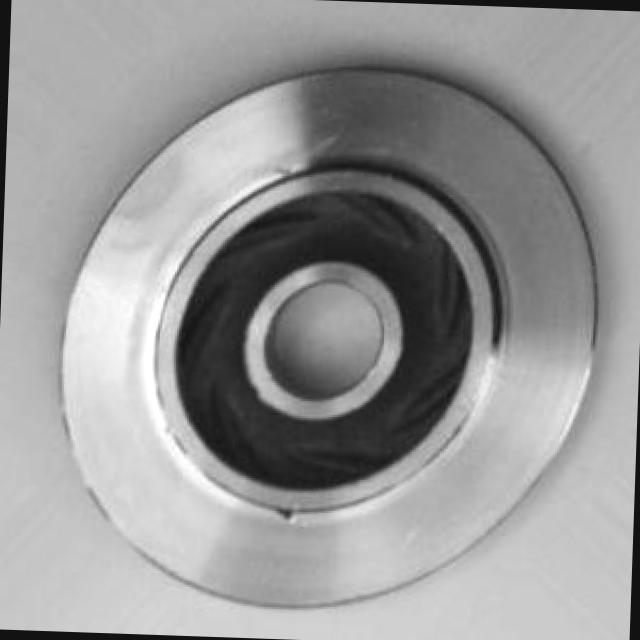Defect: (274, 503, 303, 528)
